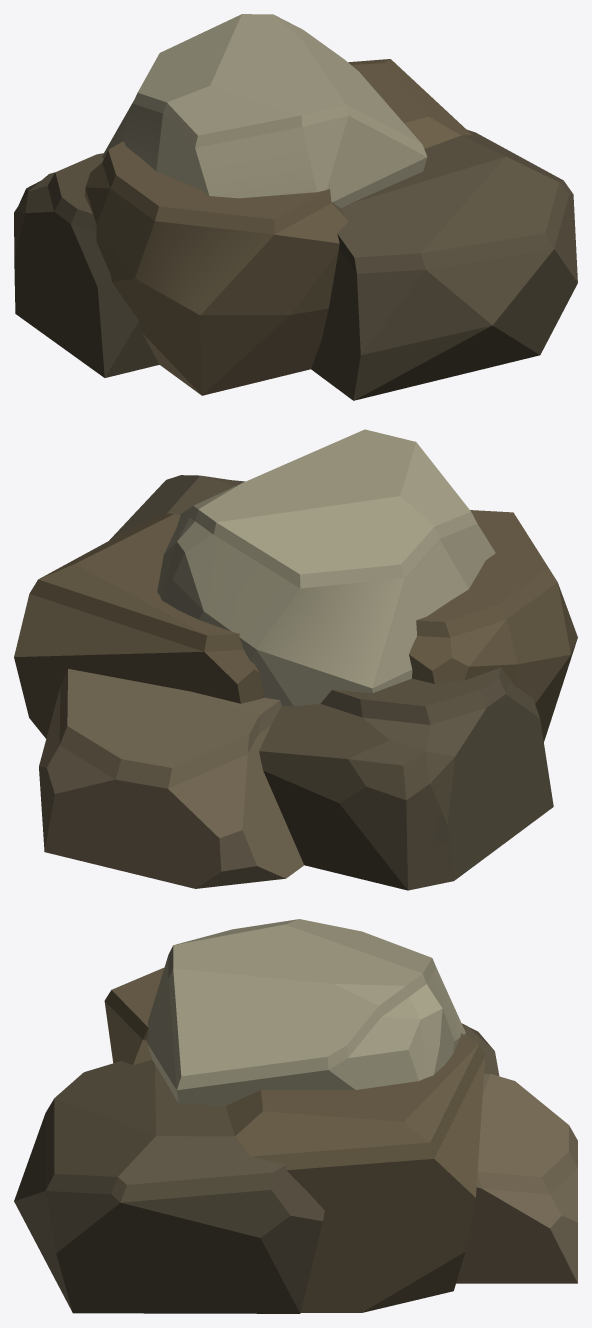
File: Rock_07.fbx
3 renders of one model, top to bottom at view 1: azimuth 30°, elevation 25°; view 2: azimuth 150°, elevation 25°; view 3: azimuth 270°, elevation 25°, orthographic. The views are drawn at different scales.
Parts seen in each view (by area): view 1: Rock_07; view 2: Rock_07; view 3: Rock_07.
Part boxes in pixels (<box>): Rock_07: <box>14,14,577,400</box>; Rock_07: <box>14,429,577,890</box>; Rock_07: <box>14,919,577,1313</box>.
Size of the model in its own units: 141 by 83.99 by 159.
